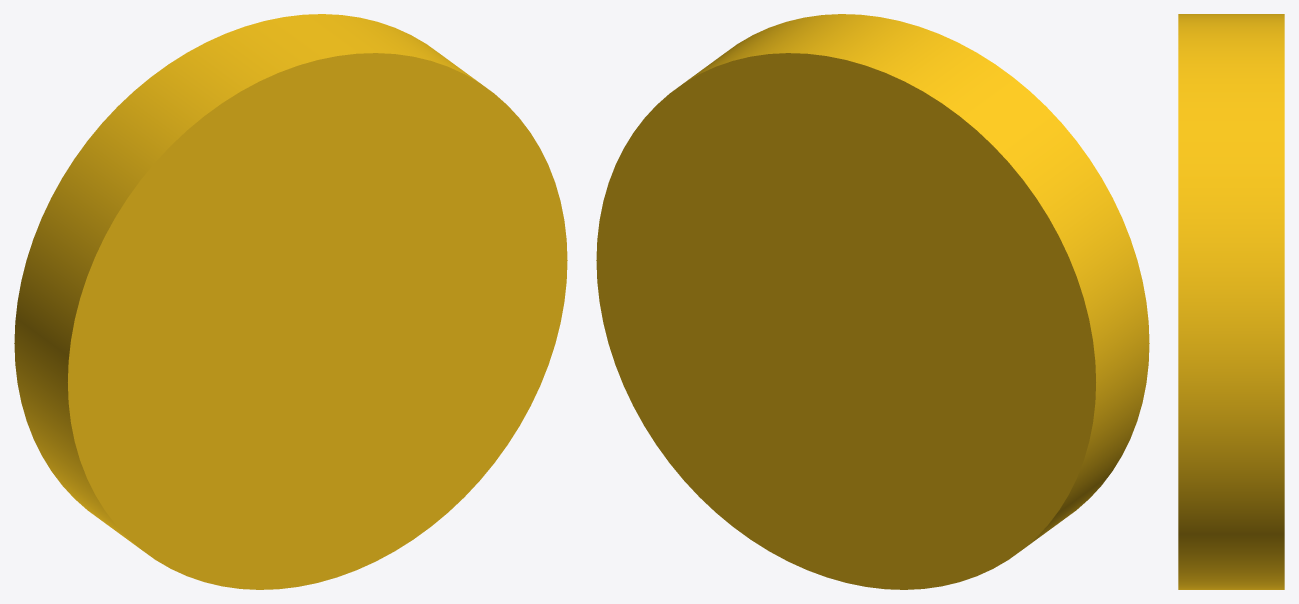
File: mince.fbx
The picture shows the model from 3 angles, left to right: view 1: azimuth 30°, elevation 25°; view 2: azimuth 150°, elevation 25°; view 3: azimuth 270°, elevation 25°; orthographic projection.
Visible parts, largest first — view 1: root; view 2: root; view 3: root.
Boxes of the visible parts, x1=… form: root: x1=14, y1=14, x2=567, y2=589; root: x1=596, y1=14, x2=1149, y2=589; root: x1=1178, y1=14, x2=1284, y2=589.
Size of the model in its own units: 0.1953 by 0.1953 by 0.0361.
Materials: 1 (1 with a texture image).
